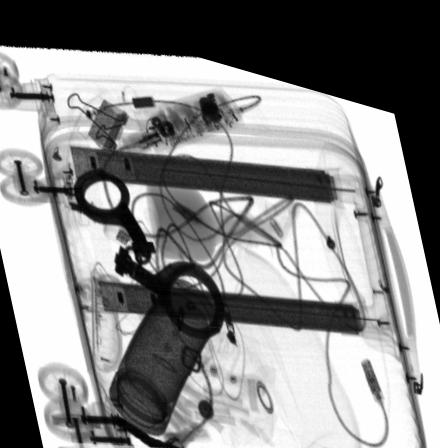Gun: (113, 409, 190, 448)
HandCuffs: (65, 162, 227, 327)
